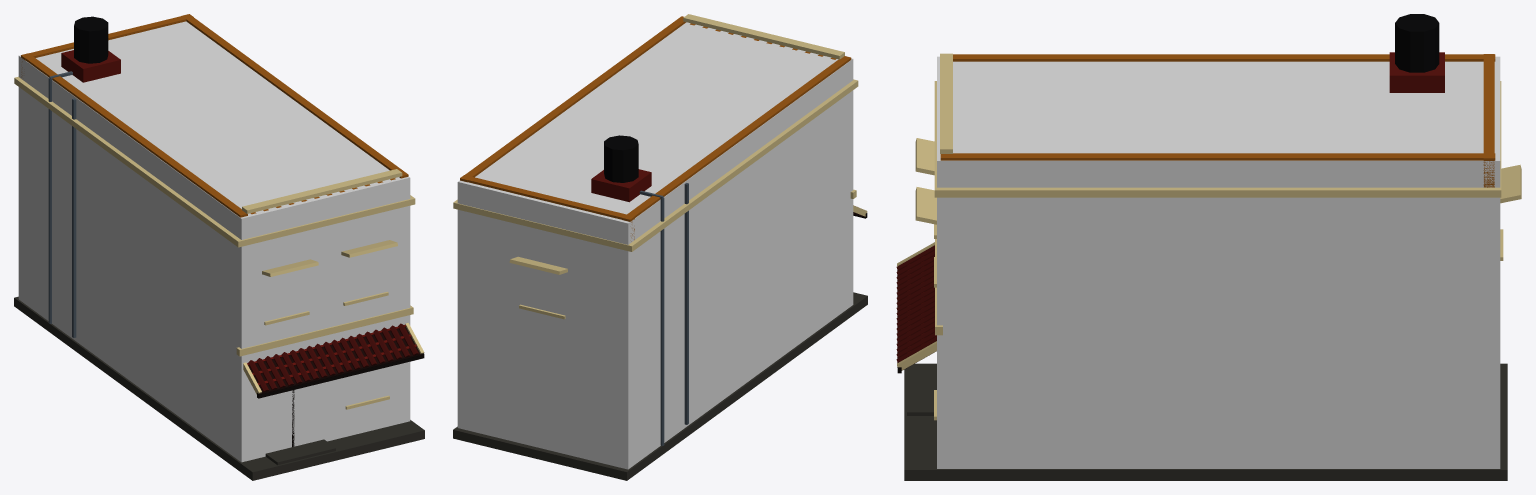
File: CHN_011_narrow_lane.glb
The picture shows the model from 3 angles, left to right: view 1: azimuth 30°, elevation 25°; view 2: azimuth 150°, elevation 25°; view 3: azimuth 270°, elevation 25°; orthographic projection. The views are drawn at different scales.
Visible parts, largest first — view 1: COL_Main, LOD0; view 2: COL_Main, LOD0; view 3: COL_Main, LOD0.
Boxes of the visible parts, bbox=[...] form: COL_Main: bbox=[18, 21, 410, 462]; LOD0: bbox=[14, 14, 424, 480]; COL_Main: bbox=[457, 22, 853, 469]; LOD0: bbox=[453, 14, 867, 480]; COL_Main: bbox=[937, 56, 1500, 468]; LOD0: bbox=[896, 14, 1521, 480].
Size of what is drawn, in the model's own units: 5.14 by 8.28 by 12.43.
